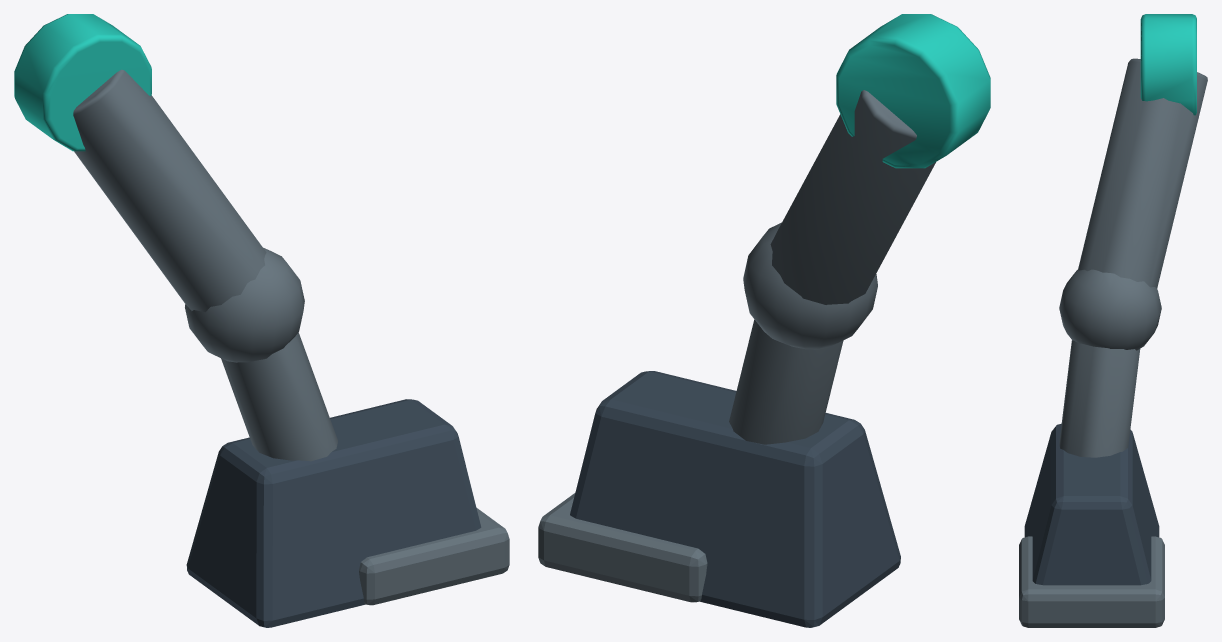
File: SM_Drudge_LegFR.fbx
3 views of the same model, side by side, from view 1: azimuth 30°, elevation 25°; view 2: azimuth 150°, elevation 25°; view 3: azimuth 270°, elevation 25° (orthographic). The views are drawn at different scales.
Parts seen in each view (by area): view 1: SM_Drudge_LegFR; view 2: SM_Drudge_LegFR; view 3: SM_Drudge_LegFR.
Boxes of the visible parts, x1,y1,x2,y2 form: SM_Drudge_LegFR: (14, 14, 509, 627); SM_Drudge_LegFR: (538, 14, 990, 627); SM_Drudge_LegFR: (1019, 14, 1207, 627).
Bounding box in the file's own units: 12.42 × 6.17 × 17.07.
